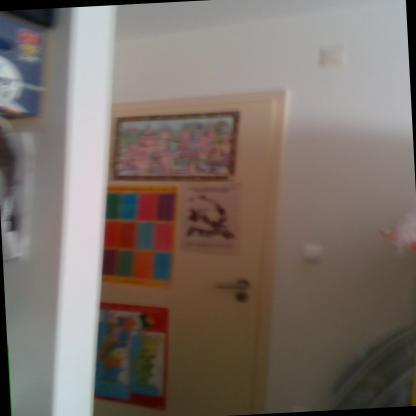closed: (71, 74, 314, 415)
